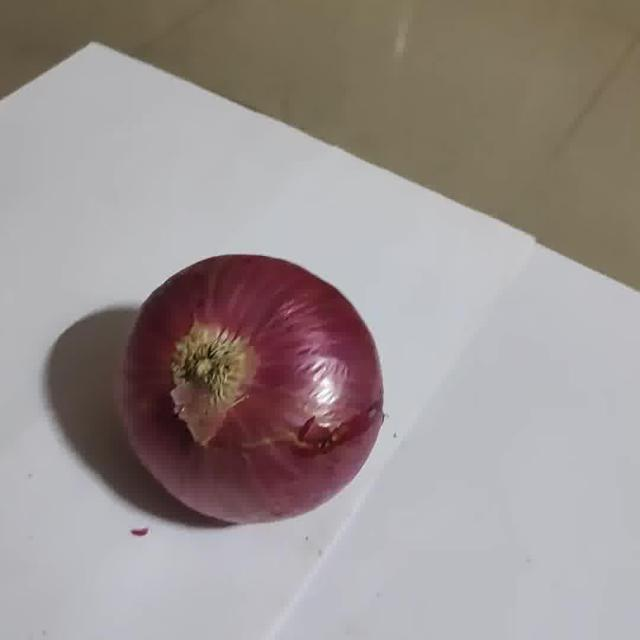Onion: (123, 254, 383, 524)
